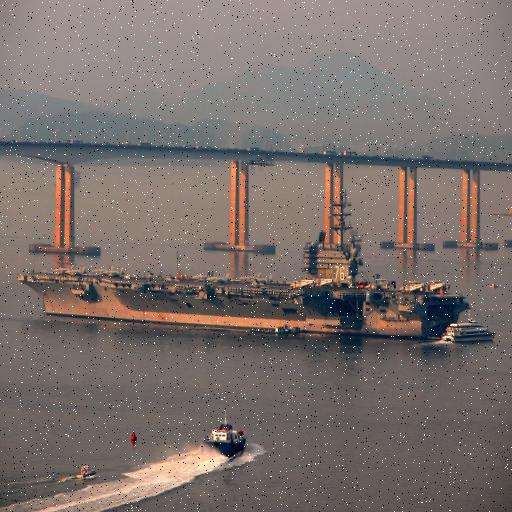Portanaves: (20, 235, 470, 345)
